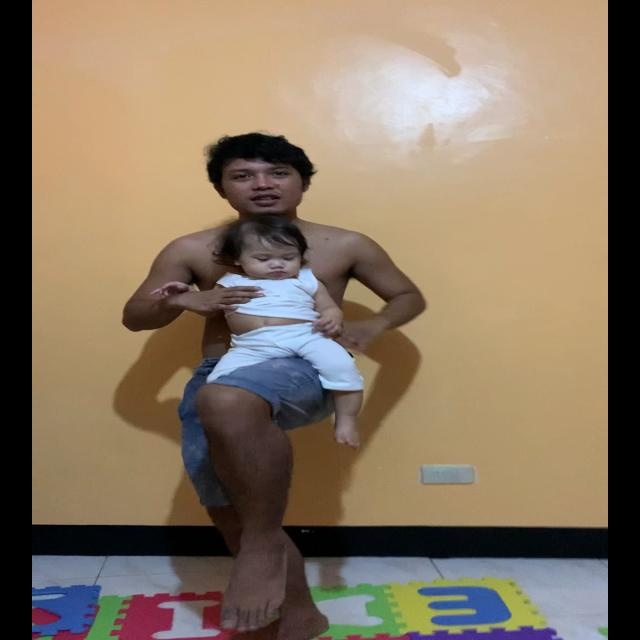adult: (119, 130, 430, 640)
child: (147, 211, 366, 454)
